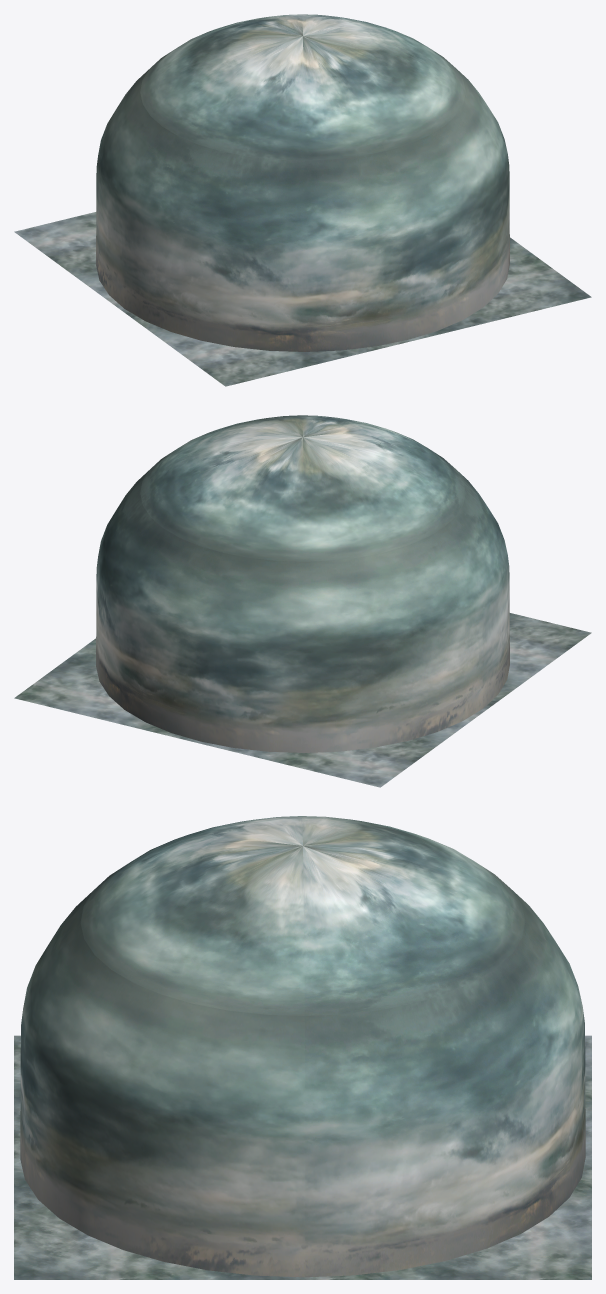
File: Sky.obj
3 views of the same model, one above another, from view 1: azimuth 30°, elevation 25°; view 2: azimuth 150°, elevation 25°; view 3: azimuth 270°, elevation 25° (orthographic). The views are drawn at different scales.
Size of the model in its own units: 2045 by 1218 by 2045.
Materials: 3 (3 with a texture image).
